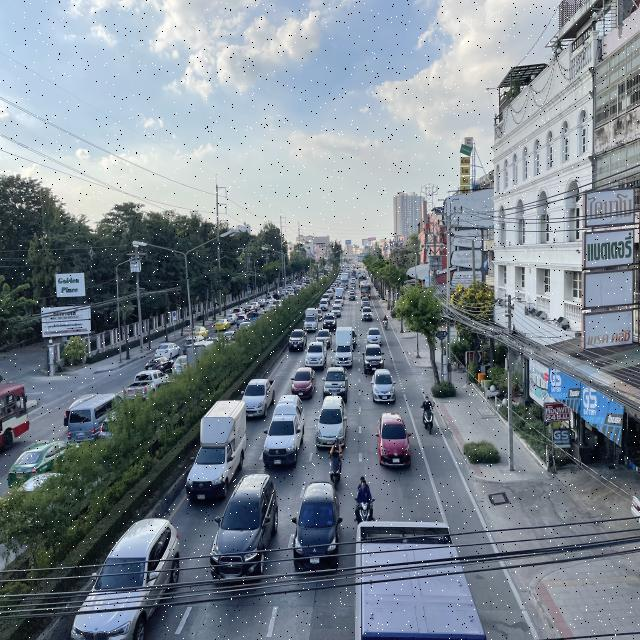bike: (354, 473, 375, 532), (326, 437, 344, 491), (421, 394, 435, 434), (382, 314, 389, 331)
car: (70, 517, 181, 640), (208, 474, 278, 584), (292, 483, 342, 573), (374, 411, 413, 470), (314, 396, 348, 449), (240, 378, 276, 419), (371, 368, 396, 404), (322, 368, 348, 402), (290, 367, 316, 399), (362, 344, 384, 375), (288, 329, 307, 352), (366, 328, 382, 346)
truck: (185, 401, 246, 504), (262, 394, 305, 469), (334, 325, 353, 370), (305, 338, 327, 369), (303, 308, 318, 332)
